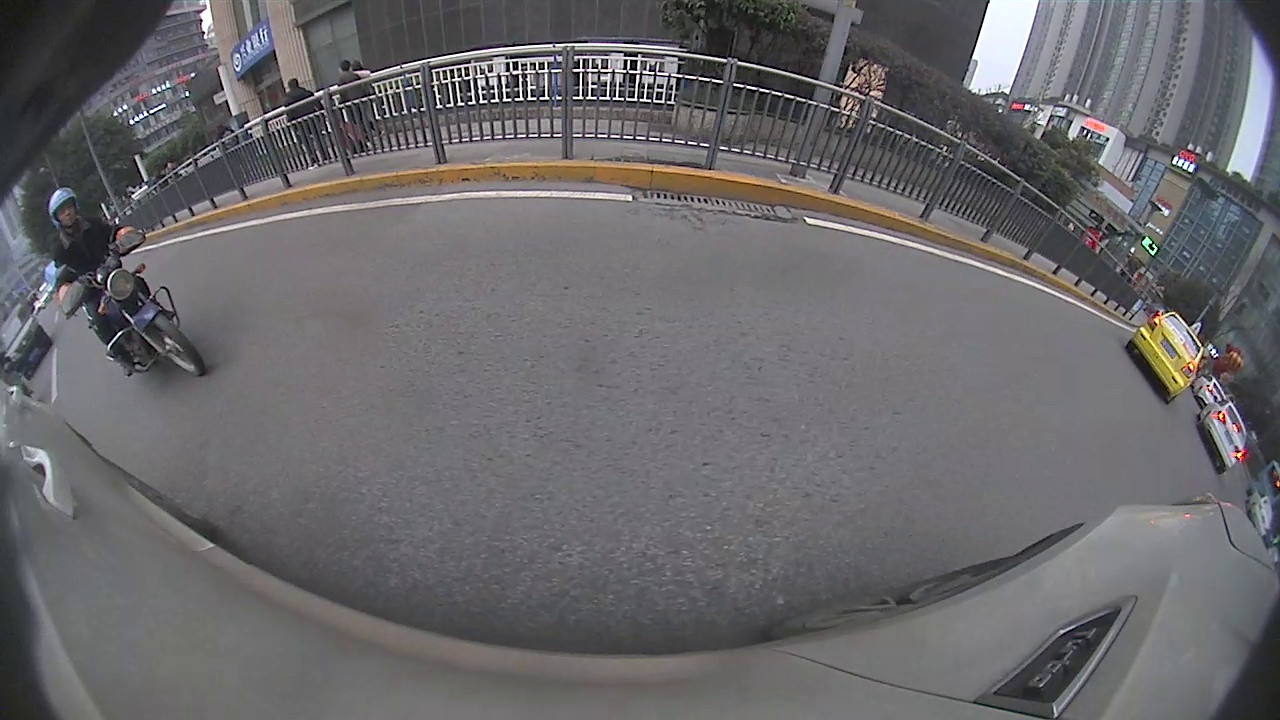car: (1124, 310, 1205, 404), (1197, 397, 1250, 476)
front: (136, 307, 203, 377)
rider: (46, 185, 207, 378)
